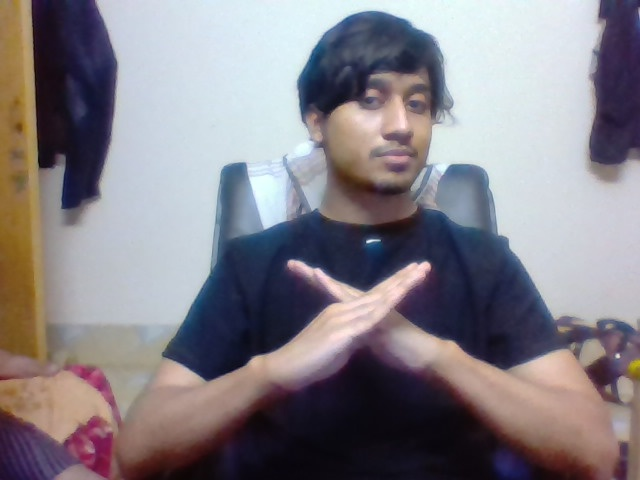X: (274, 250, 471, 386)
